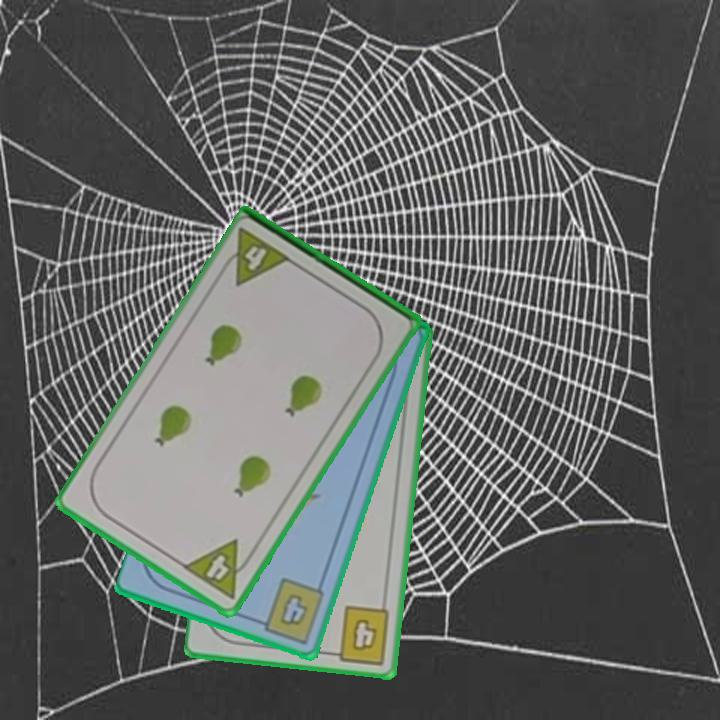4b: (251, 574, 328, 647), (325, 602, 393, 668)
4p: (179, 536, 259, 602), (216, 224, 295, 289)
